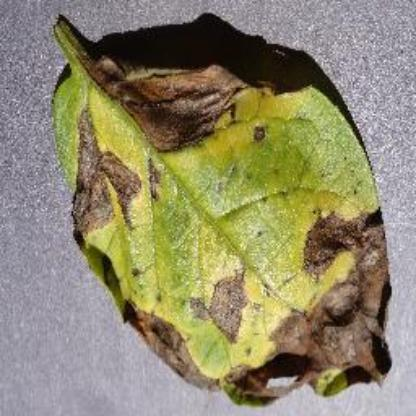Early-Blight: (53, 11, 396, 406)
